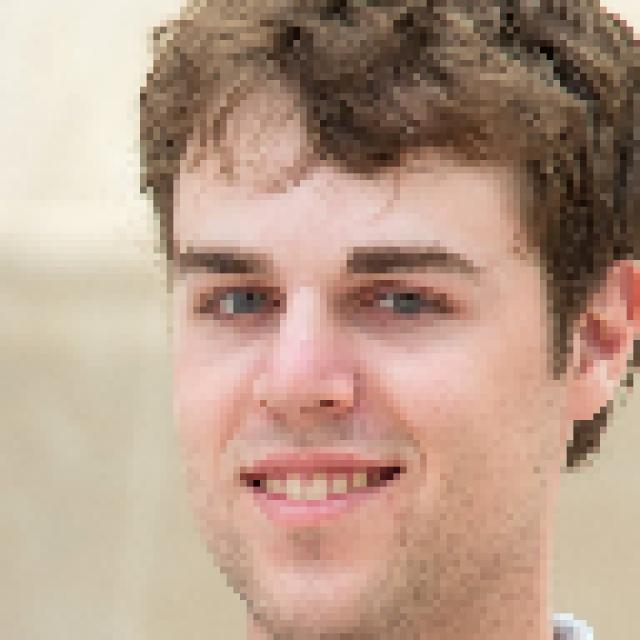happy: (130, 23, 614, 637)
